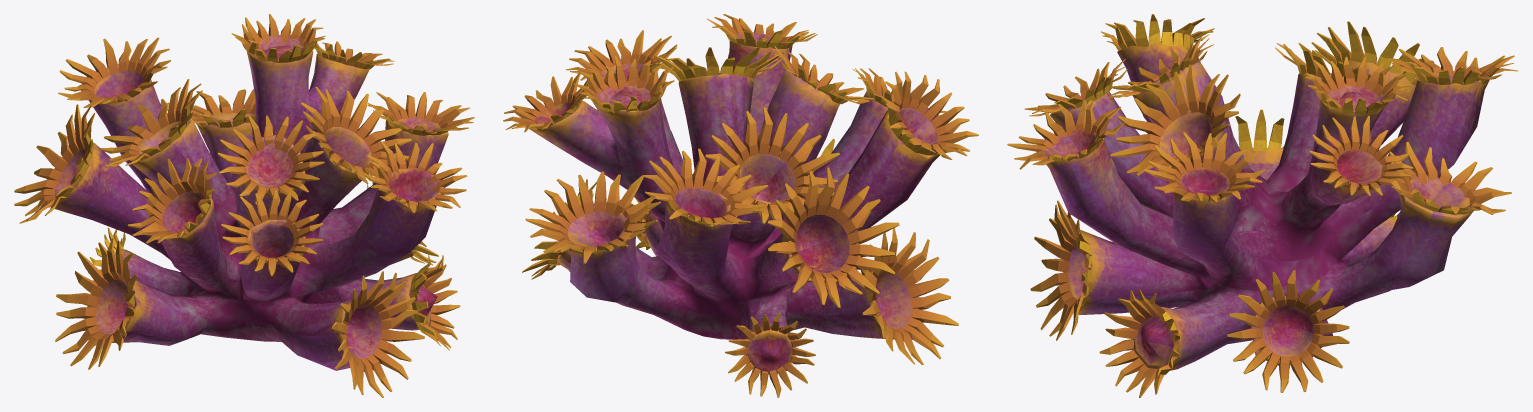
Rendered from sun coral.FBX.
The picture shows the model from 3 angles, left to right: view 1: azimuth 30°, elevation 25°; view 2: azimuth 150°, elevation 25°; view 3: azimuth 270°, elevation 25°; orthographic projection. The views are drawn at different scales.
Parts seen in each view (by area): view 1: sun coral; view 2: sun coral; view 3: sun coral.
Boxes of the visible parts, bbox=[...] form: sun coral: bbox=[14, 14, 474, 397]; sun coral: bbox=[503, 14, 978, 397]; sun coral: bbox=[1007, 14, 1518, 397].
Size of the model in its own units: 15.47 by 16.82 by 10.34.
Materials: 1 (1 with a texture image).
